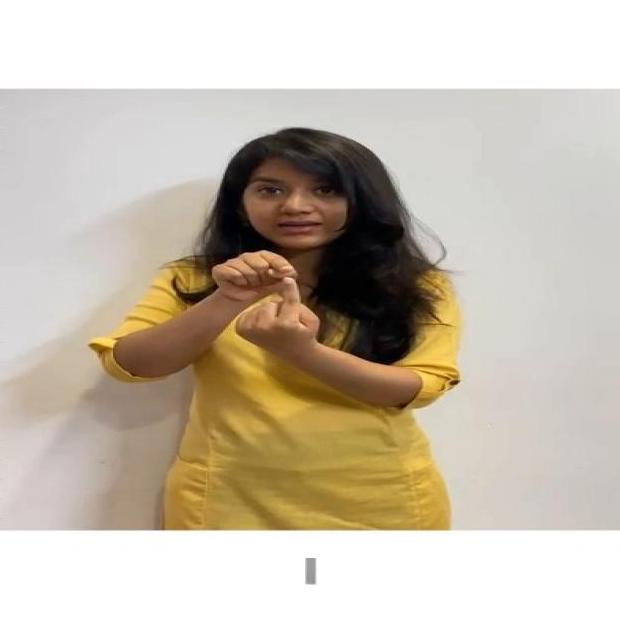H: (189, 243, 340, 363)
